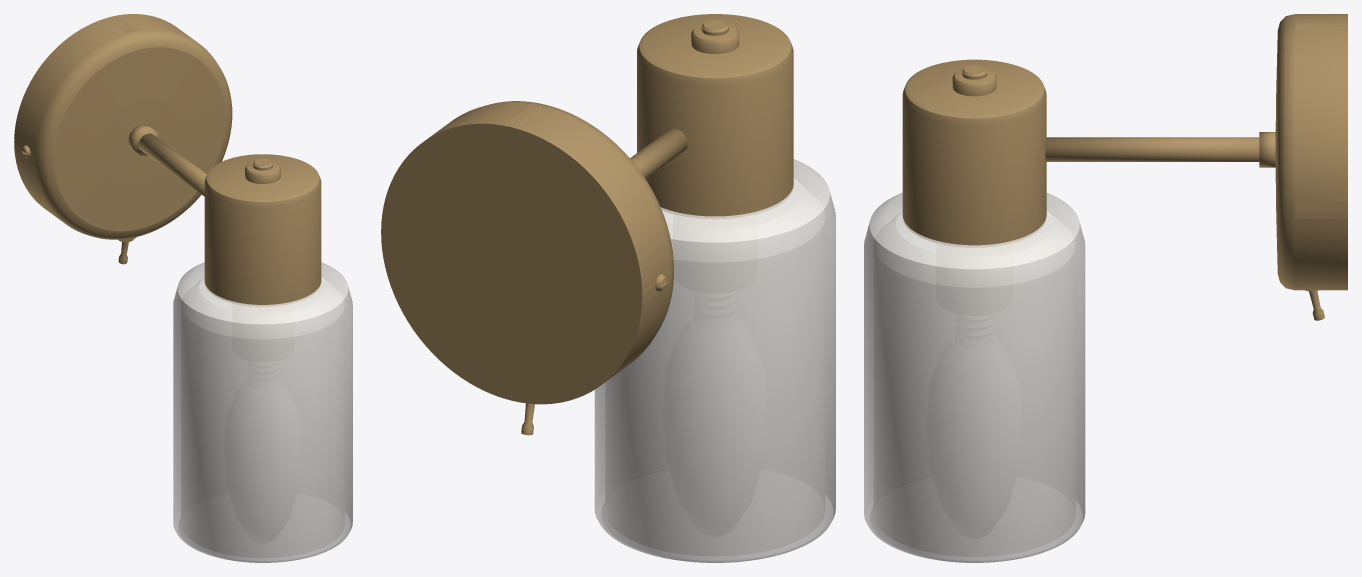
The picture shows the model from 3 angles, left to right: view 1: azimuth 30°, elevation 25°; view 2: azimuth 150°, elevation 25°; view 3: azimuth 270°, elevation 25°; orthographic projection. The views are drawn at different scales.
Visible parts, largest first — view 1: brass, glass; view 2: brass, glass; view 3: glass, brass.
Boxes of the visible parts, x1,y1,x2,y2 form: brass: [14, 14, 321, 306]; glass: [173, 262, 352, 562]; brass: [381, 14, 793, 435]; glass: [594, 159, 835, 562]; glass: [864, 192, 1085, 562]; brass: [902, 14, 1347, 320].
Bounding box in the file's own units: 0.1019 × 0.205 × 0.175.
